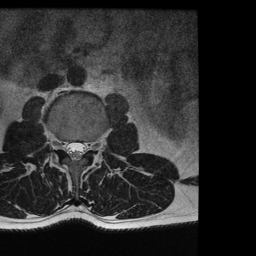CCS_normal: (72, 132, 79, 168)
LFS_normal: (86, 133, 94, 156)
LLS_normal: (79, 132, 86, 161)
RFS_normal: (56, 130, 65, 156)
RLS_normal: (65, 133, 72, 160)
